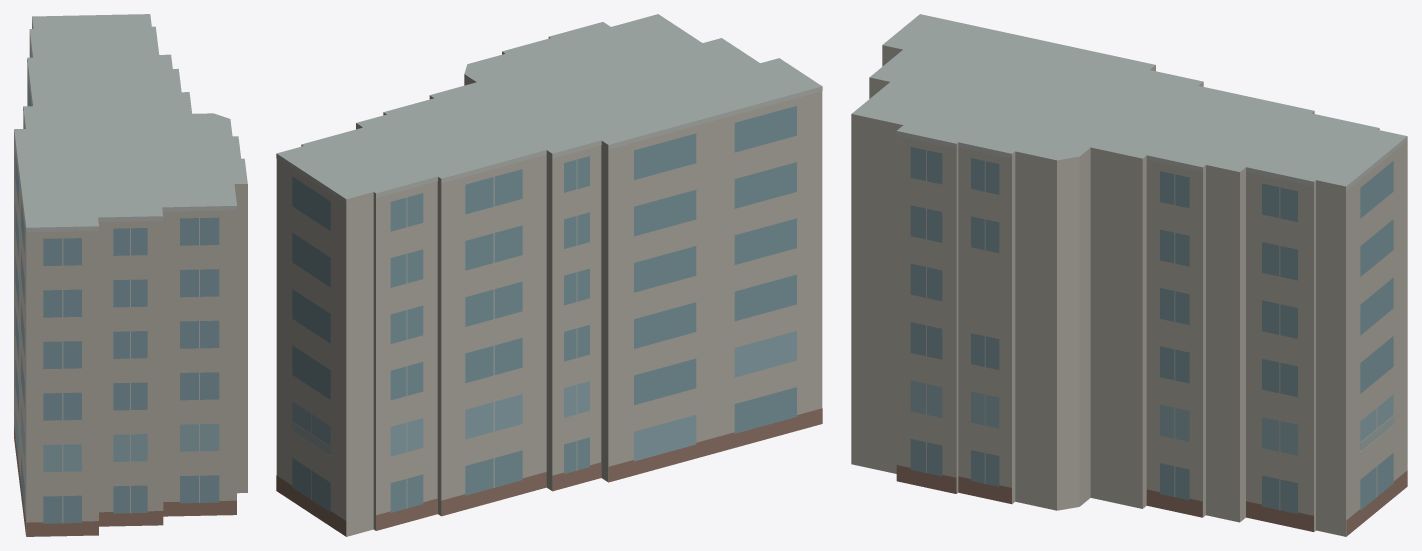
File: survey-upis-32673205.glb
The picture shows the model from 3 angles, left to right: view 1: azimuth 30°, elevation 25°; view 2: azimuth 150°, elevation 25°; view 3: azimuth 270°, elevation 25°; orthographic projection. The views are drawn at different scales.
Visible parts, largest first — view 1: survey-upis-32673205.tmp; view 2: survey-upis-32673205.tmp; view 3: survey-upis-32673205.tmp.
Part boxes in pixels (box(x1,y1,x2,y2)): survey-upis-32673205.tmp: box(14, 14, 247, 536); survey-upis-32673205.tmp: box(276, 14, 822, 536); survey-upis-32673205.tmp: box(851, 14, 1407, 536).
Size of the model in its own units: 18.23 by 17.25 by 24.82.
